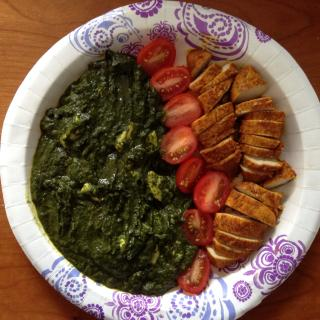tomato: (191, 170, 231, 216), (137, 37, 178, 76), (150, 65, 191, 100), (160, 93, 202, 127), (179, 249, 211, 293), (162, 124, 197, 164), (183, 208, 214, 245), (178, 158, 208, 192)
